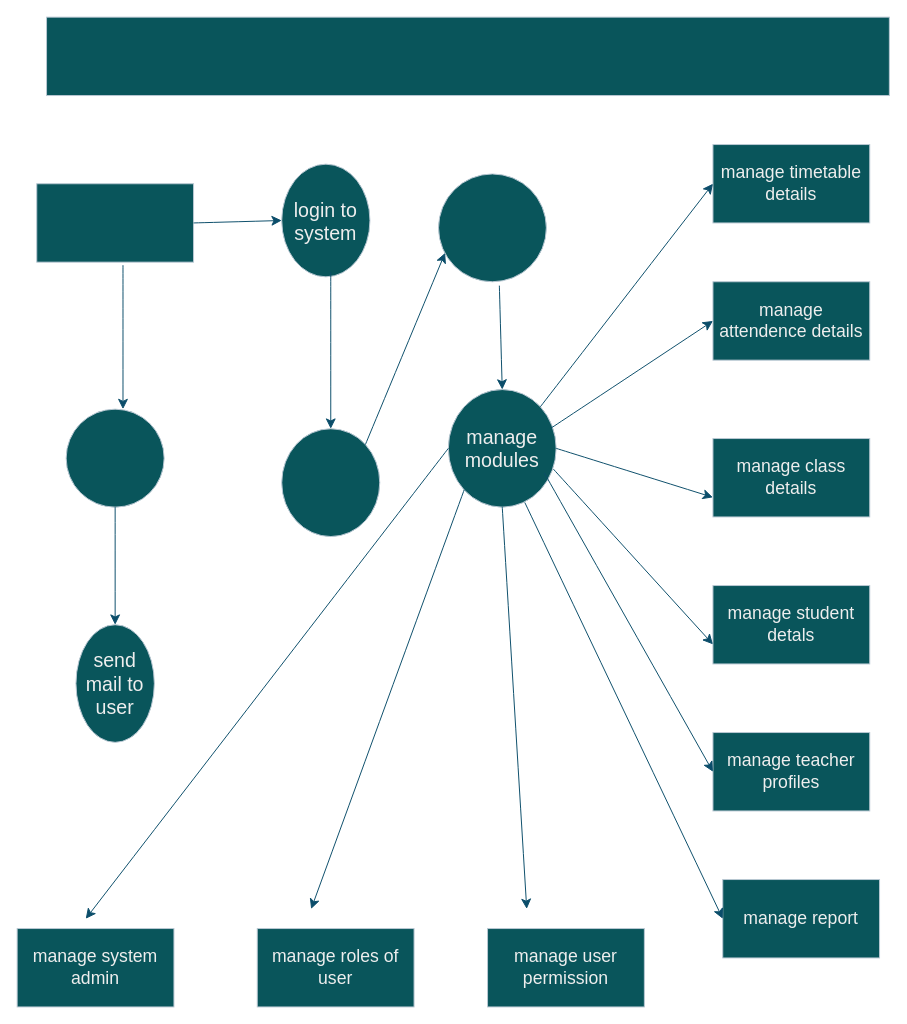
The diagram is 907 pixels wide and 1024 high, and some of its shapes have lost their labels. Each missing label, with the box of its shape:
Admin: (36, 183, 194, 262)
checck roles of access: (438, 173, 546, 282)
check credentials: (281, 428, 380, 537)
forgot password: (65, 408, 164, 507)
student information system: (46, 16, 889, 96)
